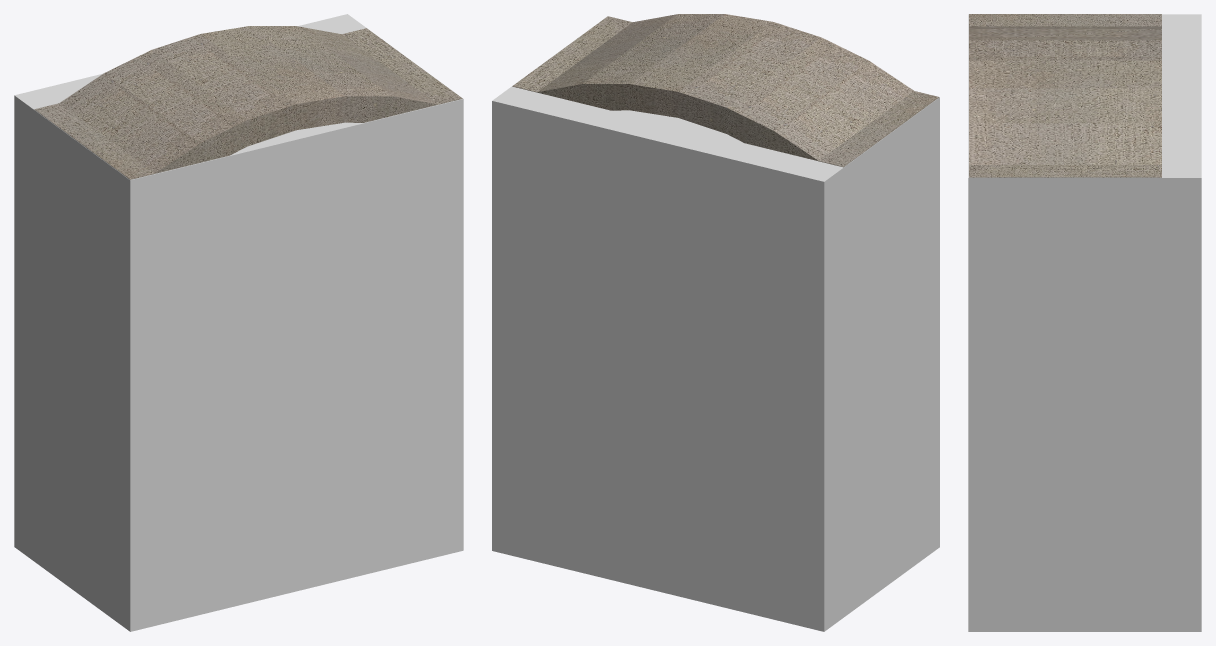
File: BLCW52ST.glb
The picture shows the model from 3 angles, left to right: view 1: azimuth 30°, elevation 25°; view 2: azimuth 150°, elevation 25°; view 3: azimuth 270°, elevation 25°; orthographic projection.
Parts seen in each view (by area): view 1: _bb.005, limestone.002; view 2: _bb.005, limestone.002; view 3: _bb.005, limestone.002.
Part boxes in pixels (x1=…): _bb.005: x1=14, y1=14, x2=463, y2=631; limestone.002: x1=34, y1=26, x2=462, y2=179; _bb.005: x1=492, y1=16, x2=939, y2=631; limestone.002: x1=512, y1=14, x2=938, y2=167; _bb.005: x1=968, y1=14, x2=1201, y2=631; limestone.002: x1=969, y1=14, x2=1161, y2=177.
Size of the model in its own units: 0.4012 by 0.56 by 0.242.
Materials: 1 (1 with a texture image).
